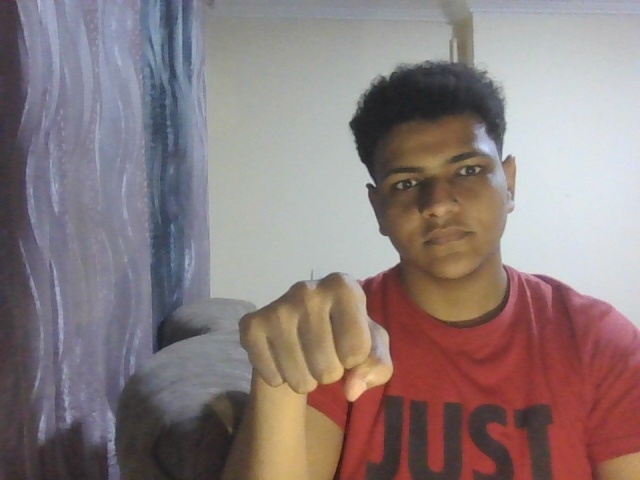yes: (211, 258, 416, 424)
